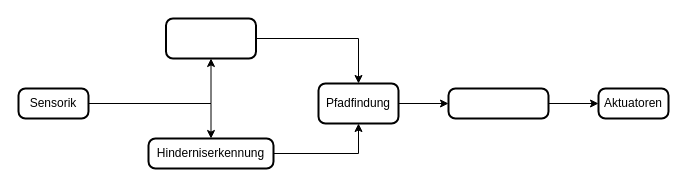
This 686x186 diagram has some shape labels left out. The shapes that lost their labels are listed below. From the top down, each one's box as (x1, y1, x2, y2) in pixels, then its label:
(164, 17, 256, 59): Lokalisierung
(447, 87, 549, 119): Positionierung
